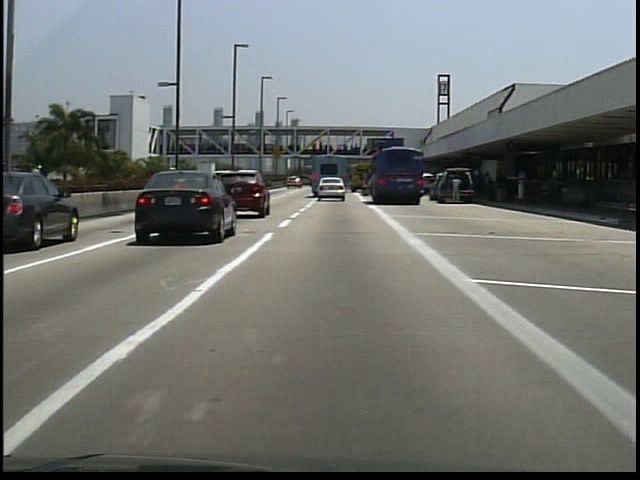person: (493, 168, 509, 207), (449, 174, 463, 207)
